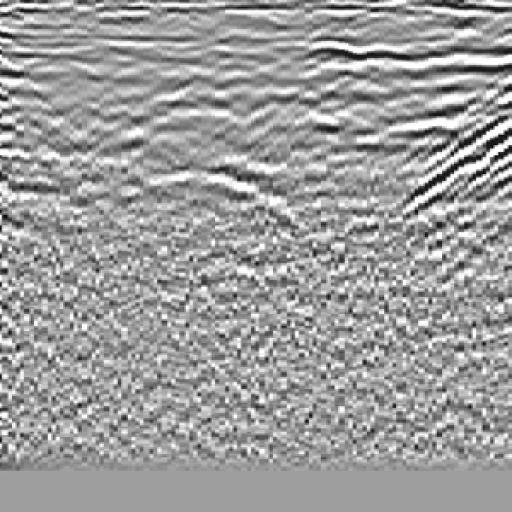metalic: (118, 43, 330, 264)
nonmetalic: (385, 65, 512, 267)
